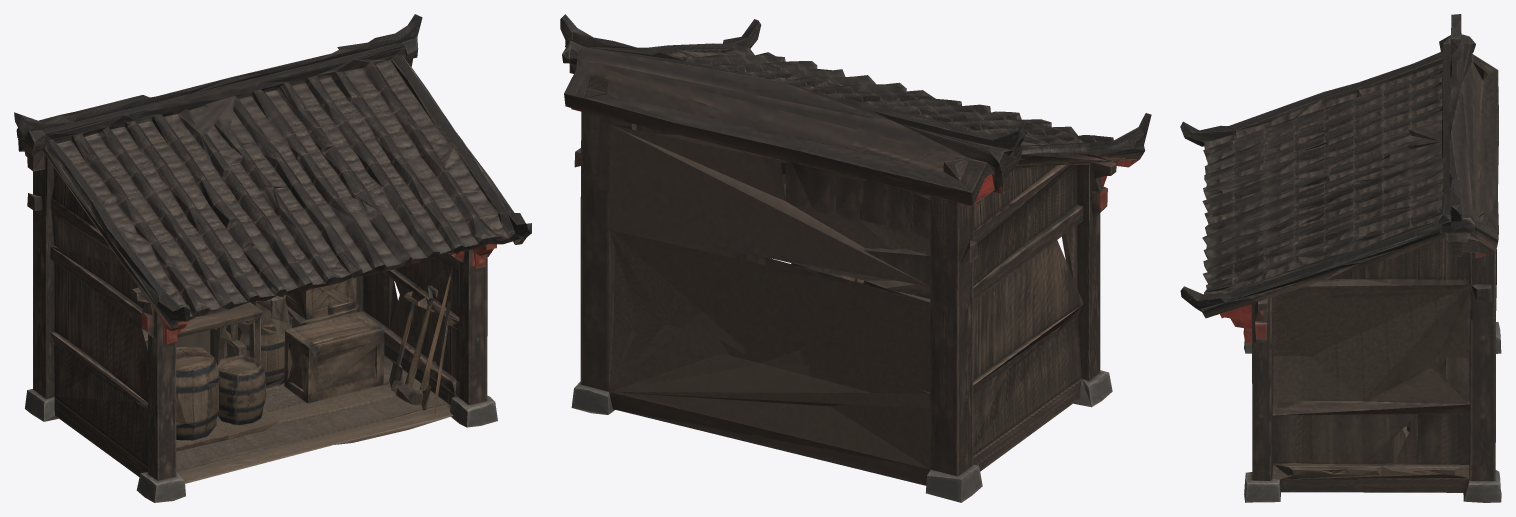
File: yard_shed.glb
The picture shows the model from 3 angles, left to right: view 1: azimuth 30°, elevation 25°; view 2: azimuth 150°, elevation 25°; view 3: azimuth 270°, elevation 25°; orthographic projection. The views are drawn at different scales.
Visible parts, largest first — view 1: Mesh_0; view 2: Mesh_0; view 3: Mesh_0.
Part boxes in pixels (box(x1,y1,x2,y2)): Mesh_0: box(14, 14, 531, 502); Mesh_0: box(560, 14, 1151, 502); Mesh_0: box(1180, 14, 1501, 502).
Bounding box in the file's own units: 3.2 × 2.4 × 2.24.
Materials: 1 (1 with a texture image).
